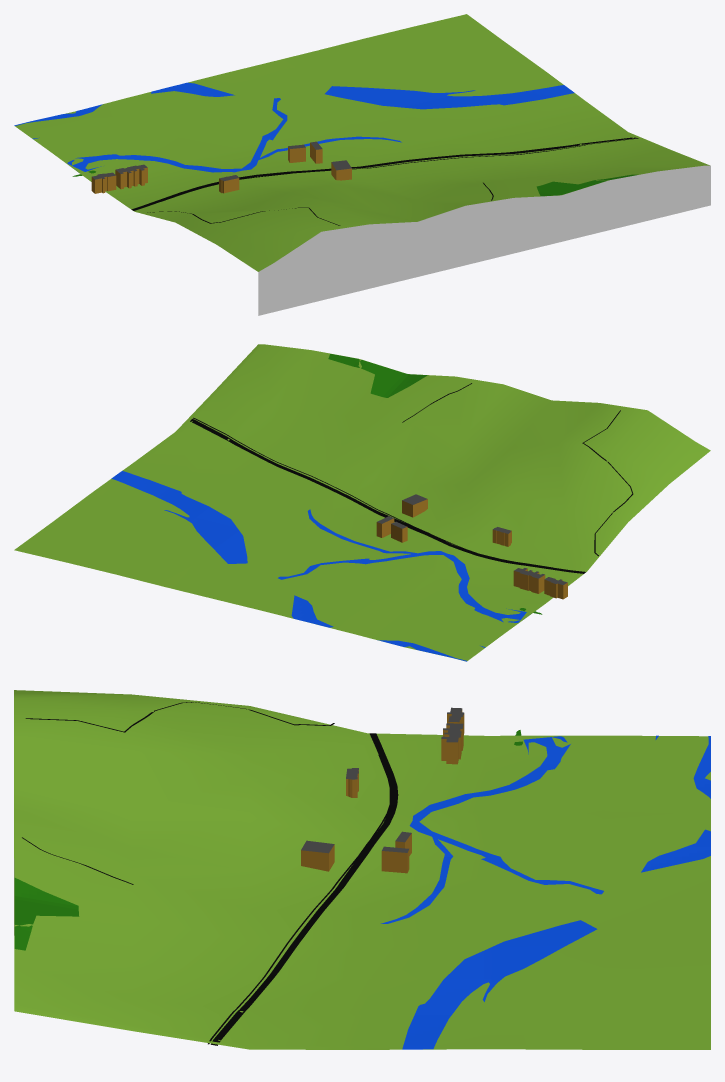
File: tile_08_00.glb
The picture shows the model from 3 angles, top to bottom: view 1: azimuth 30°, elevation 25°; view 2: azimuth 150°, elevation 25°; view 3: azimuth 270°, elevation 25°; orthographic projection. The views are drawn at different scales.
Visible parts, largest first — view 1: Terrain_08_00, Ub_small.osm_water_08_00, Ub_small.osm_buildings_08_00, Ub_small.osm_roads_primary_08_00, Ub_small.osm_forest_08_00, Ub_small.osm_paths_cycleway_08_00; view 2: Terrain_08_00, Ub_small.osm_water_08_00, Ub_small.osm_buildings_08_00, Ub_small.osm_forest_08_00, Ub_small.osm_roads_primary_08_00; view 3: Terrain_08_00, Ub_small.osm_water_08_00, Ub_small.osm_buildings_08_00, Ub_small.osm_roads_primary_08_00, Ub_small.osm_forest_08_00, Ub_small.osm_paths_cycleway_08_00, Ub_small.osm_paths_footway_08_00.
Part boxes in pixels (x1,y1,x2,y2): Terrain_08_00: (15, 14, 710, 315); Ub_small.osm_water_08_00: (14, 82, 574, 172); Ub_small.osm_buildings_08_00: (91, 141, 351, 193); Ub_small.osm_roads_primary_08_00: (131, 137, 637, 210); Ub_small.osm_forest_08_00: (72, 170, 637, 196); Ub_small.osm_paths_cycleway_08_00: (160, 138, 638, 201); Terrain_08_00: (14, 344, 710, 660); Ub_small.osm_water_08_00: (111, 471, 526, 661); Ub_small.osm_buildings_08_00: (376, 494, 567, 599); Ub_small.osm_forest_08_00: (328, 353, 542, 614); Ub_small.osm_roads_primary_08_00: (190, 419, 585, 573); Terrain_08_00: (14, 690, 710, 1049); Ub_small.osm_water_08_00: (381, 735, 710, 1049); Ub_small.osm_buildings_08_00: (301, 707, 464, 873); Ub_small.osm_roads_primary_08_00: (210, 733, 398, 1045); Ub_small.osm_forest_08_00: (14, 730, 522, 950); Ub_small.osm_paths_cycleway_08_00: (208, 755, 391, 1044); Ub_small.osm_paths_footway_08_00: (22, 702, 334, 884).
Size of the model in its own units: 1000 by 142 by 914.
